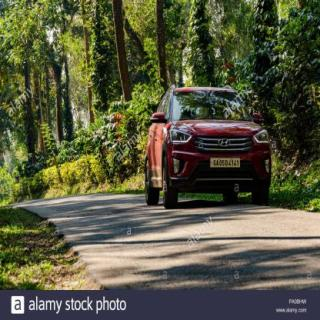Normal_vehicle: (145, 87, 271, 208)
